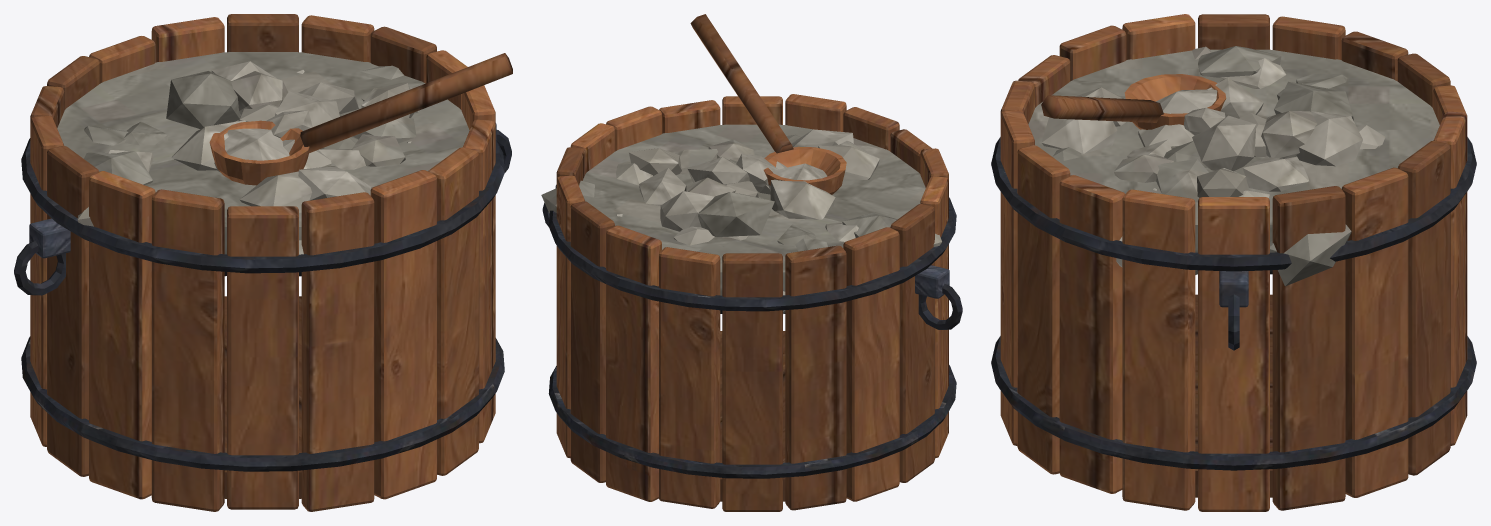
The model's file is cf_flux_tub.glb.
The picture shows the model from 3 angles, left to right: view 1: azimuth 30°, elevation 25°; view 2: azimuth 150°, elevation 25°; view 3: azimuth 270°, elevation 25°; orthographic projection. The views are drawn at different scales.
Visible parts, largest first — view 1: model; view 2: model; view 3: model.
Part boxes in pixels (box(x1,y1,x2,y2)): model: box(14, 14, 512, 511); model: box(541, 14, 962, 511); model: box(991, 14, 1476, 511).
Bounding box in the file's own units: 0.788 × 0.5934 × 0.664.
9 materials, 9 textured.
